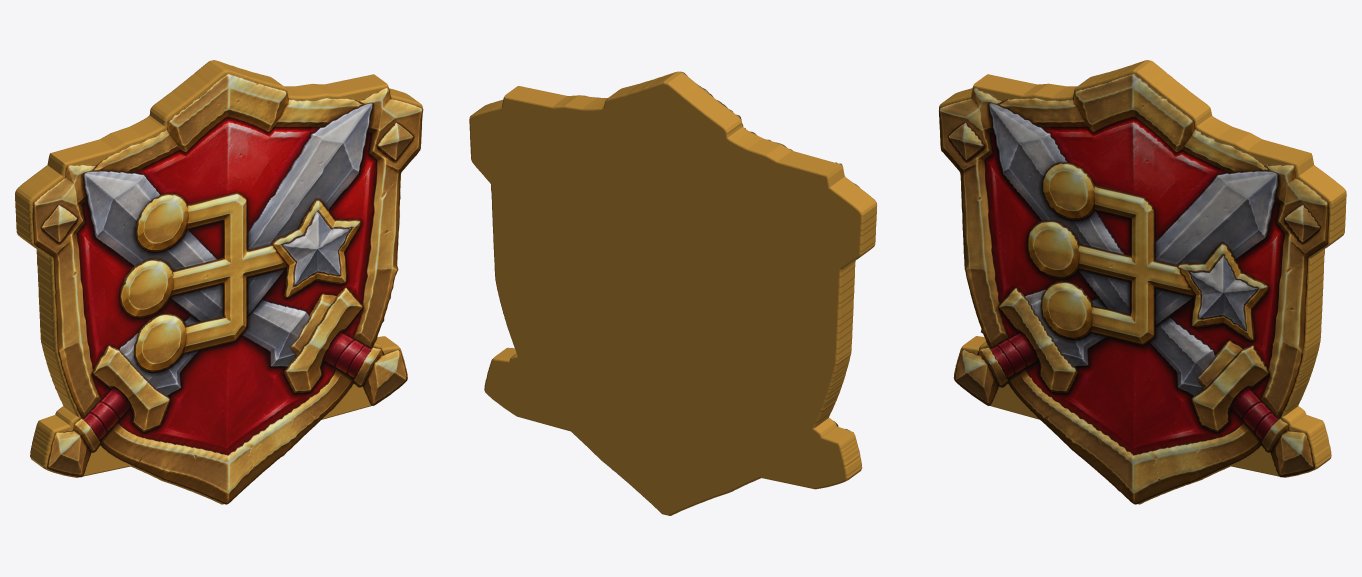
The model's file is tournament-debut-achievement-badge.glb.
3 views of the same model, side by side, from view 1: azimuth 30°, elevation 25°; view 2: azimuth 150°, elevation 25°; view 3: azimuth 330°, elevation 25° (orthographic).
Parts seen in each view (by area): view 1: Textured raised enamel tournament emblem, Solid bronze and gold shield; view 2: Solid bronze and gold shield; view 3: Textured raised enamel tournament emblem, Solid bronze and gold shield.
Boxes of the visible parts, x1,y1,x2,y2 form: Textured raised enamel tournament emblem: (32, 73, 423, 504); Solid bronze and gold shield: (15, 60, 422, 504); Solid bronze and gold shield: (469, 71, 876, 515); Textured raised enamel tournament emblem: (939, 73, 1329, 504); Solid bronze and gold shield: (939, 60, 1346, 504).
Bounding box in the file's own units: 6.4 × 6.4 × 0.465.
2 materials, 1 textured.
